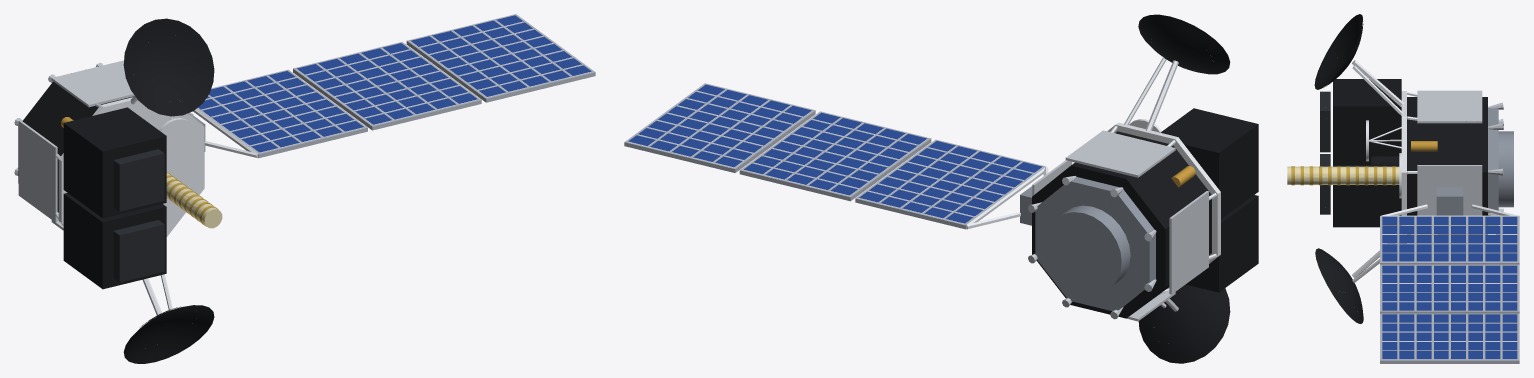
Rendered from elektro-l.glb.
3 views of the same model, side by side, from view 1: azimuth 30°, elevation 25°; view 2: azimuth 150°, elevation 25°; view 3: azimuth 270°, elevation 25° (orthographic). The views are drawn at different scales.
Parts seen in each view (by area): view 1: body, solar-panel; view 2: body, solar-panel; view 3: body, solar-panel.
Boxes of the visible parts, x1,y1,x2,y2 form: body: (14, 14, 595, 363); solar-panel: (198, 15, 591, 152); body: (624, 14, 1258, 363); solar-panel: (628, 84, 1042, 223); body: (1287, 14, 1519, 363); solar-panel: (1382, 216, 1517, 359).
Size of the model in its own units: 6.93 by 4.35 by 3.04.
